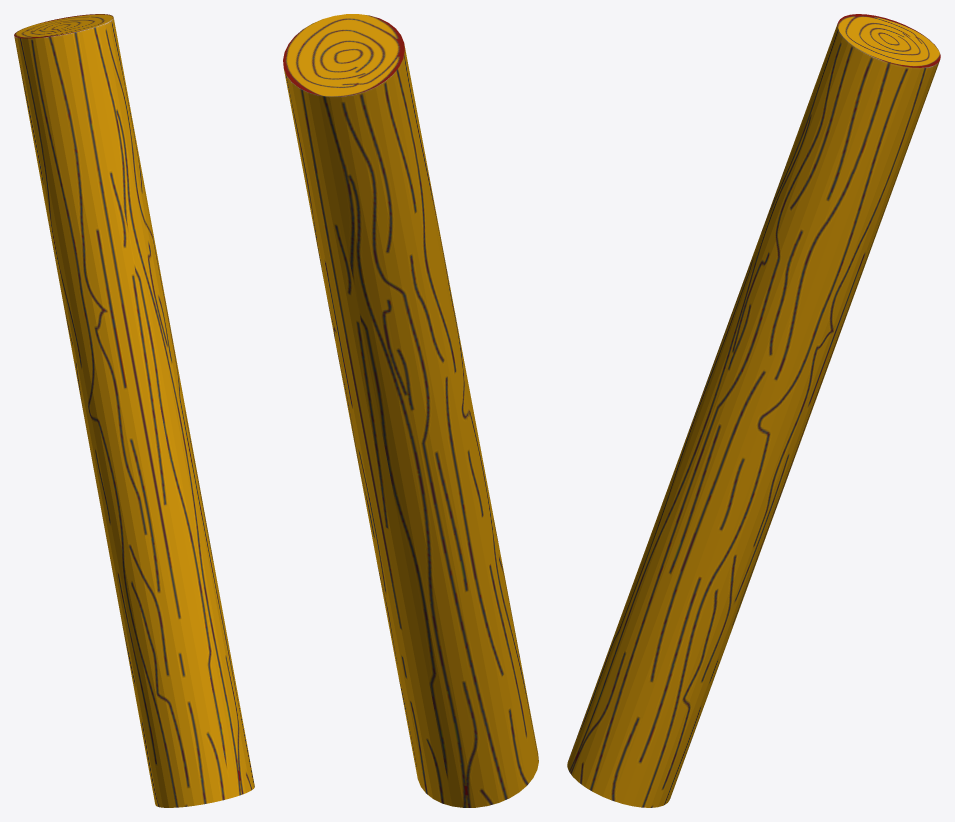
File: Stick.fbx
3 renders of one model, left to right at view 1: azimuth 30°, elevation 25°; view 2: azimuth 150°, elevation 25°; view 3: azimuth 270°, elevation 25°, orthographic. The views are drawn at different scales.
Parts seen in each view (by area): view 1: Sticks; view 2: Sticks; view 3: Sticks.
Boxes of the visible parts, bbox=[...] form: Sticks: bbox=[14, 14, 254, 807]; Sticks: bbox=[283, 14, 538, 807]; Sticks: bbox=[567, 14, 940, 807].
Size of the model in its own units: 17.35 by 114 by 50.69.
